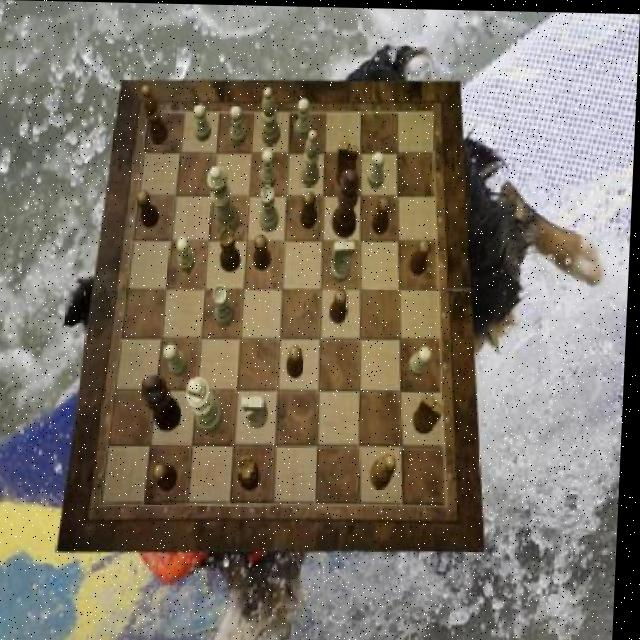bishop: (140, 84, 171, 143), (374, 451, 400, 488)
black-bishop: (144, 375, 187, 432)
black-king: (416, 391, 448, 433), (337, 140, 360, 186)
black-knight: (137, 189, 161, 227), (411, 237, 432, 273), (331, 288, 352, 323), (155, 463, 181, 491), (373, 194, 392, 232), (301, 190, 320, 226), (289, 344, 308, 378), (255, 234, 273, 269)
black-pawn: (332, 169, 360, 237)
black-queen: (220, 227, 245, 271), (240, 454, 264, 489)
black-rook: (261, 86, 283, 145), (302, 129, 323, 186)
white-bishop: (189, 376, 228, 434)
white-king: (331, 238, 356, 281), (244, 395, 272, 428)
white-knight: (167, 342, 191, 377), (296, 96, 314, 138), (231, 104, 249, 146), (194, 103, 213, 142), (410, 344, 434, 374), (178, 236, 198, 272), (260, 149, 278, 188), (368, 151, 386, 187)
white-pawn: (206, 165, 244, 235)
white-queen: (213, 284, 238, 326), (260, 183, 281, 231)
